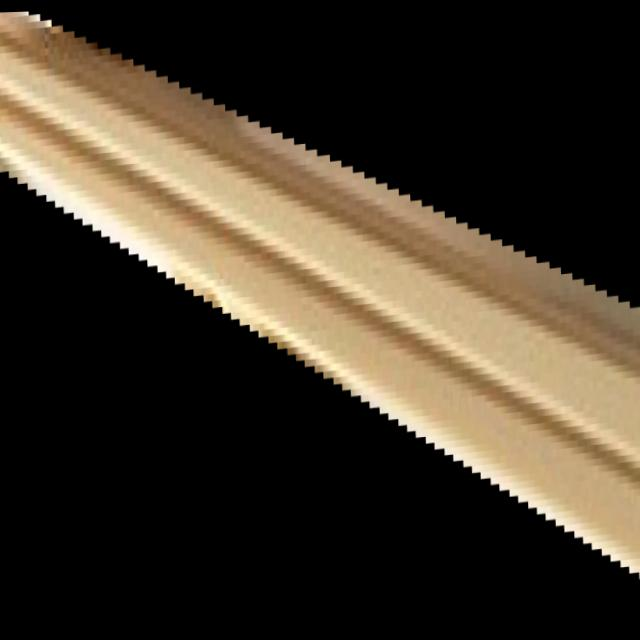others: (0, 10, 640, 589)
